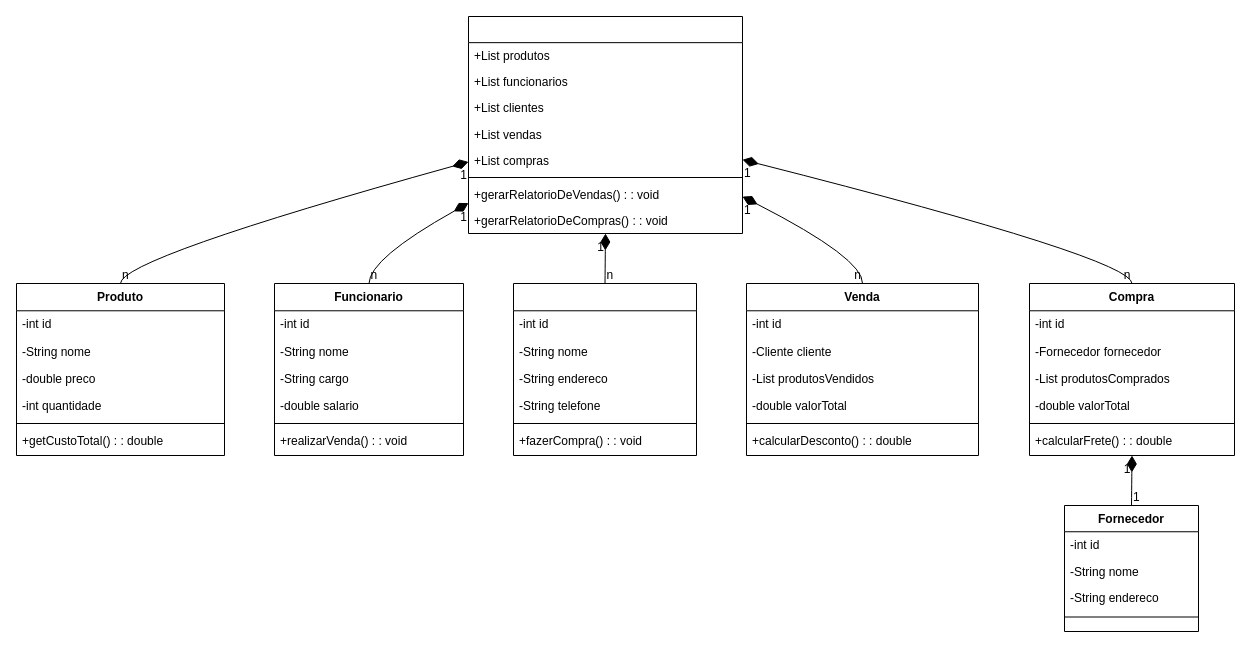
The diagram is 1251 pixels wide and 648 high, and some of its shapes have lost their labels. Here are the shapes that lost their labels. From the top down, the box of each, then its label:
(468, 16, 742, 234): SistemaControleDeEst
(512, 282, 696, 456): Cliente
